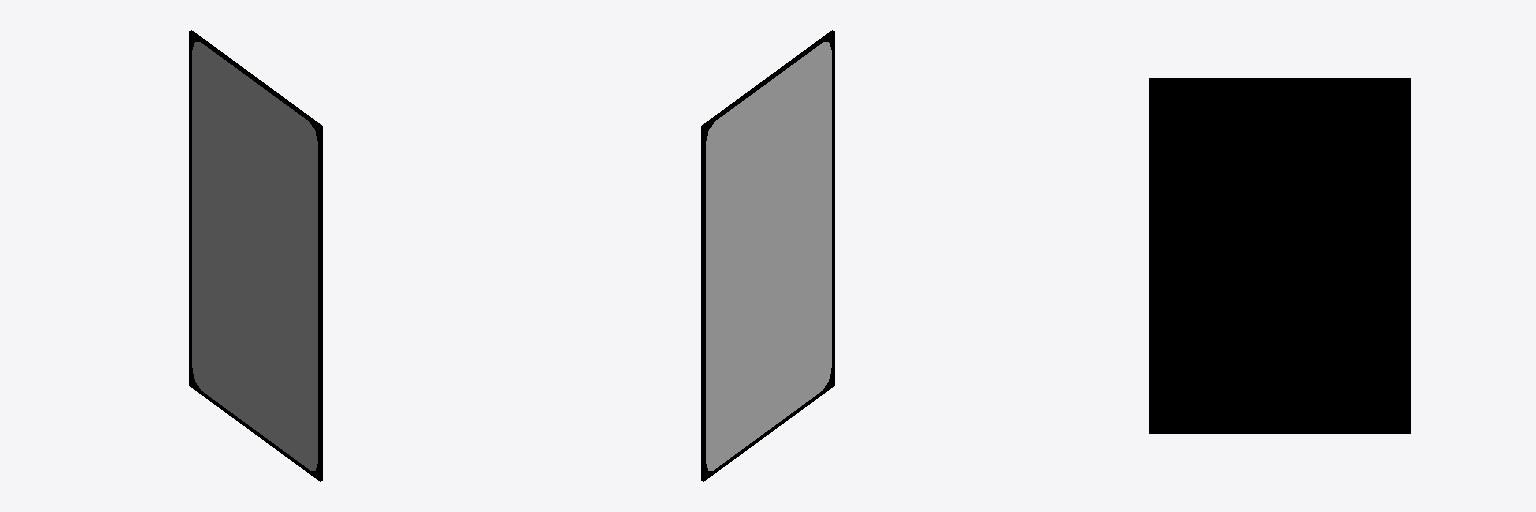
File: mirror3.obj
3 views of the same model, side by side, from view 1: azimuth 30°, elevation 25°; view 2: azimuth 150°, elevation 25°; view 3: azimuth 270°, elevation 25° (orthographic).
Visible parts, largest first — view 1: Mirror; view 2: Mirror; view 3: Mirror.
Boxes of the visible parts, x1,y1,x2,y2 form: Mirror: [189, 30, 322, 481]; Mirror: [701, 30, 834, 481]; Mirror: [1149, 78, 1410, 433].
Size of the model in its own units: 0.1014 by 12 by 8.